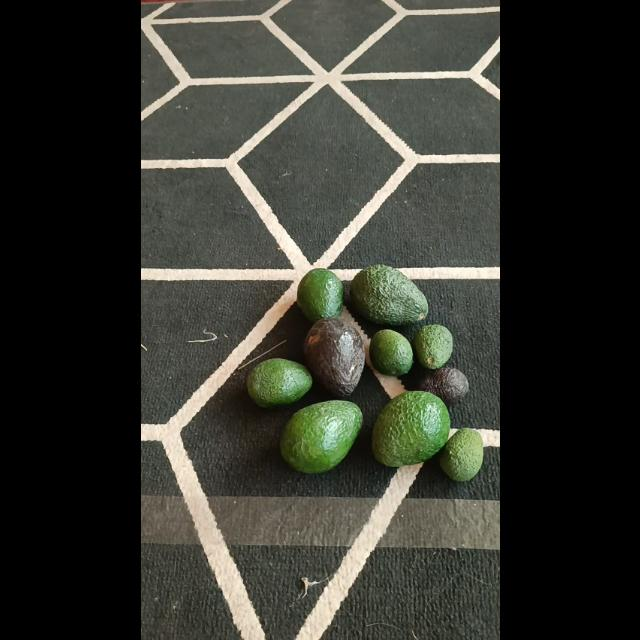Primera: (372, 390, 451, 466), (280, 400, 362, 472), (302, 316, 364, 398), (348, 263, 428, 325)
Segunda: (245, 357, 312, 407), (294, 268, 344, 322)
Tercera: (438, 426, 482, 482), (368, 328, 414, 376), (414, 366, 470, 404), (412, 322, 452, 370)
